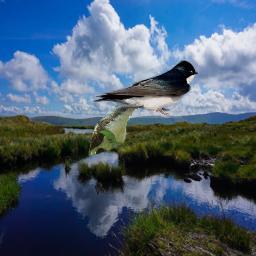Cuckoo: (88, 104, 140, 156)
Swallow: (93, 60, 198, 118)
